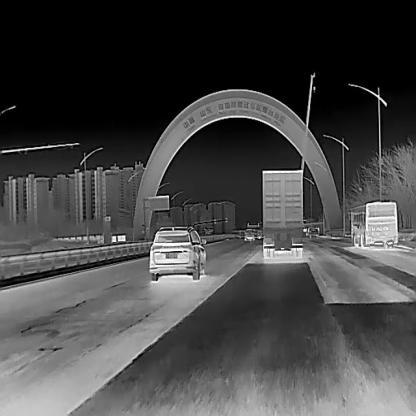car: (262, 169, 303, 257), (147, 225, 206, 281), (352, 201, 397, 248), (243, 228, 254, 242), (308, 228, 319, 238)
